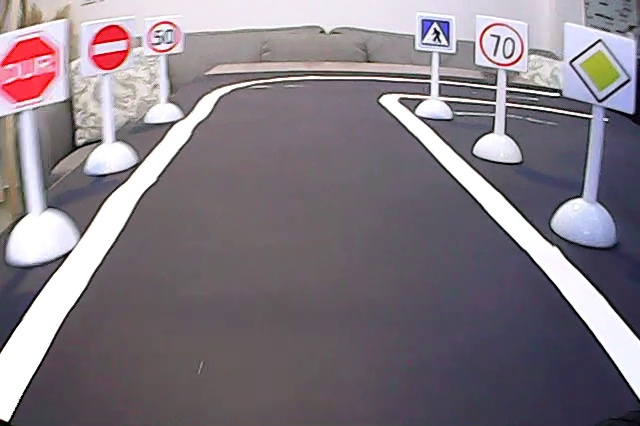do not enter: (85, 23, 138, 74)
pedestrian crossing: (417, 15, 456, 52)
speed limit 50: (145, 19, 183, 55)
speed limit 70: (478, 17, 527, 70)
stop sign: (3, 32, 65, 109)
